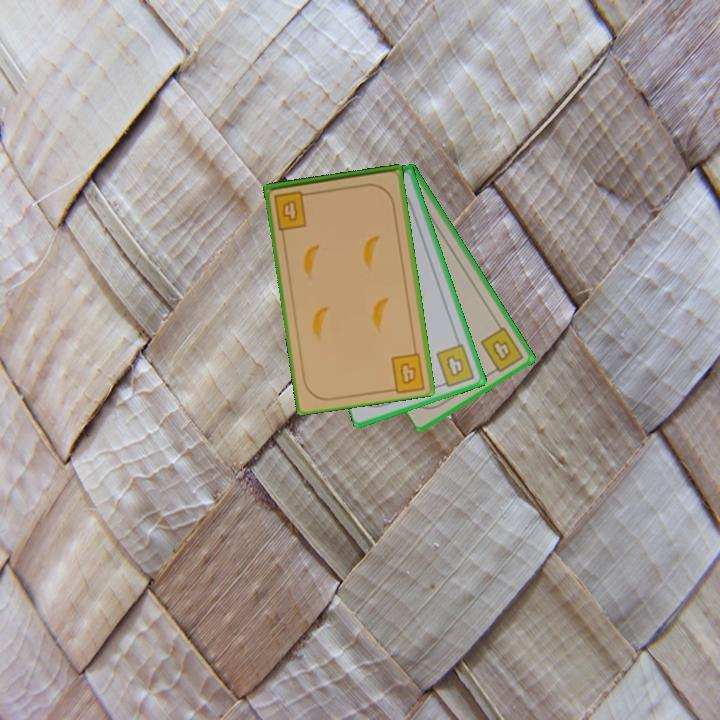4b: (477, 323, 527, 377), (432, 340, 478, 390), (271, 187, 314, 232), (397, 359, 419, 388)
